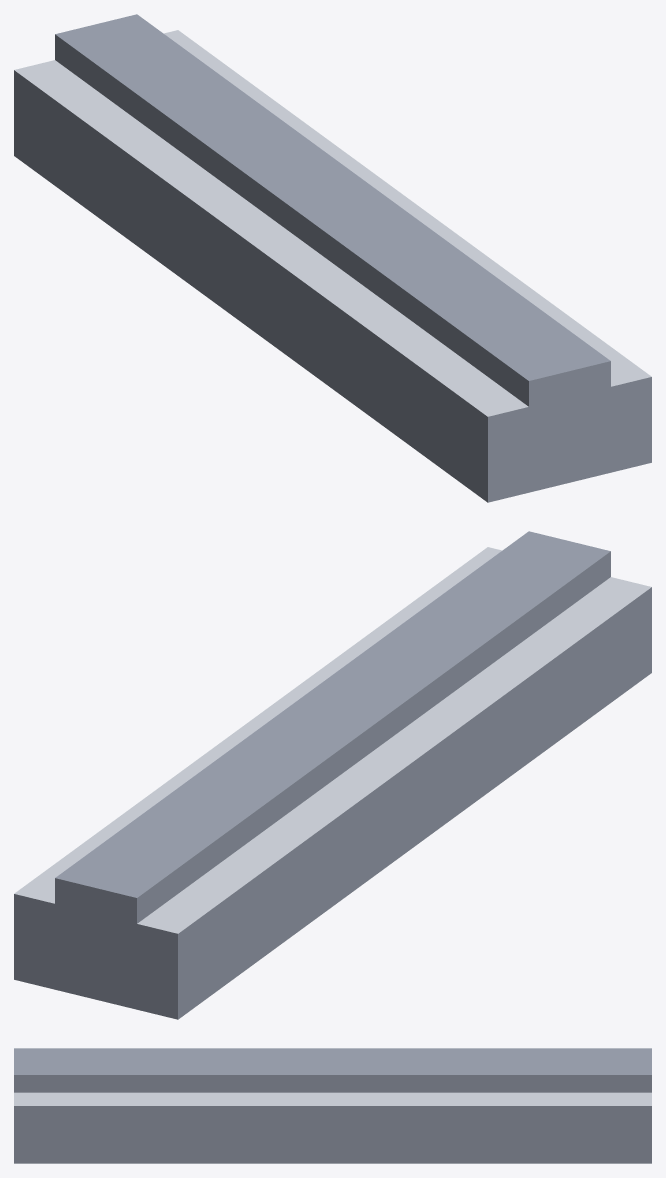
Rendered from monorail_trackStraight.glb.
The picture shows the model from 3 angles, top to bottom: view 1: azimuth 30°, elevation 25°; view 2: azimuth 150°, elevation 25°; view 3: azimuth 270°, elevation 25°; orthographic projection. The views are drawn at different scales.
Parts seen in each view (by area): view 1: monorail_trackStraight; view 2: monorail_trackStraight; view 3: monorail_trackStraight.
Boxes of the visible parts, left/top/right/bottom form: monorail_trackStraight: left=14, top=14, right=651, bottom=502; monorail_trackStraight: left=14, top=531, right=651, bottom=1019; monorail_trackStraight: left=14, top=1048, right=651, bottom=1163.
Size of the model in its own units: 0.2 by 0.13 by 1.
